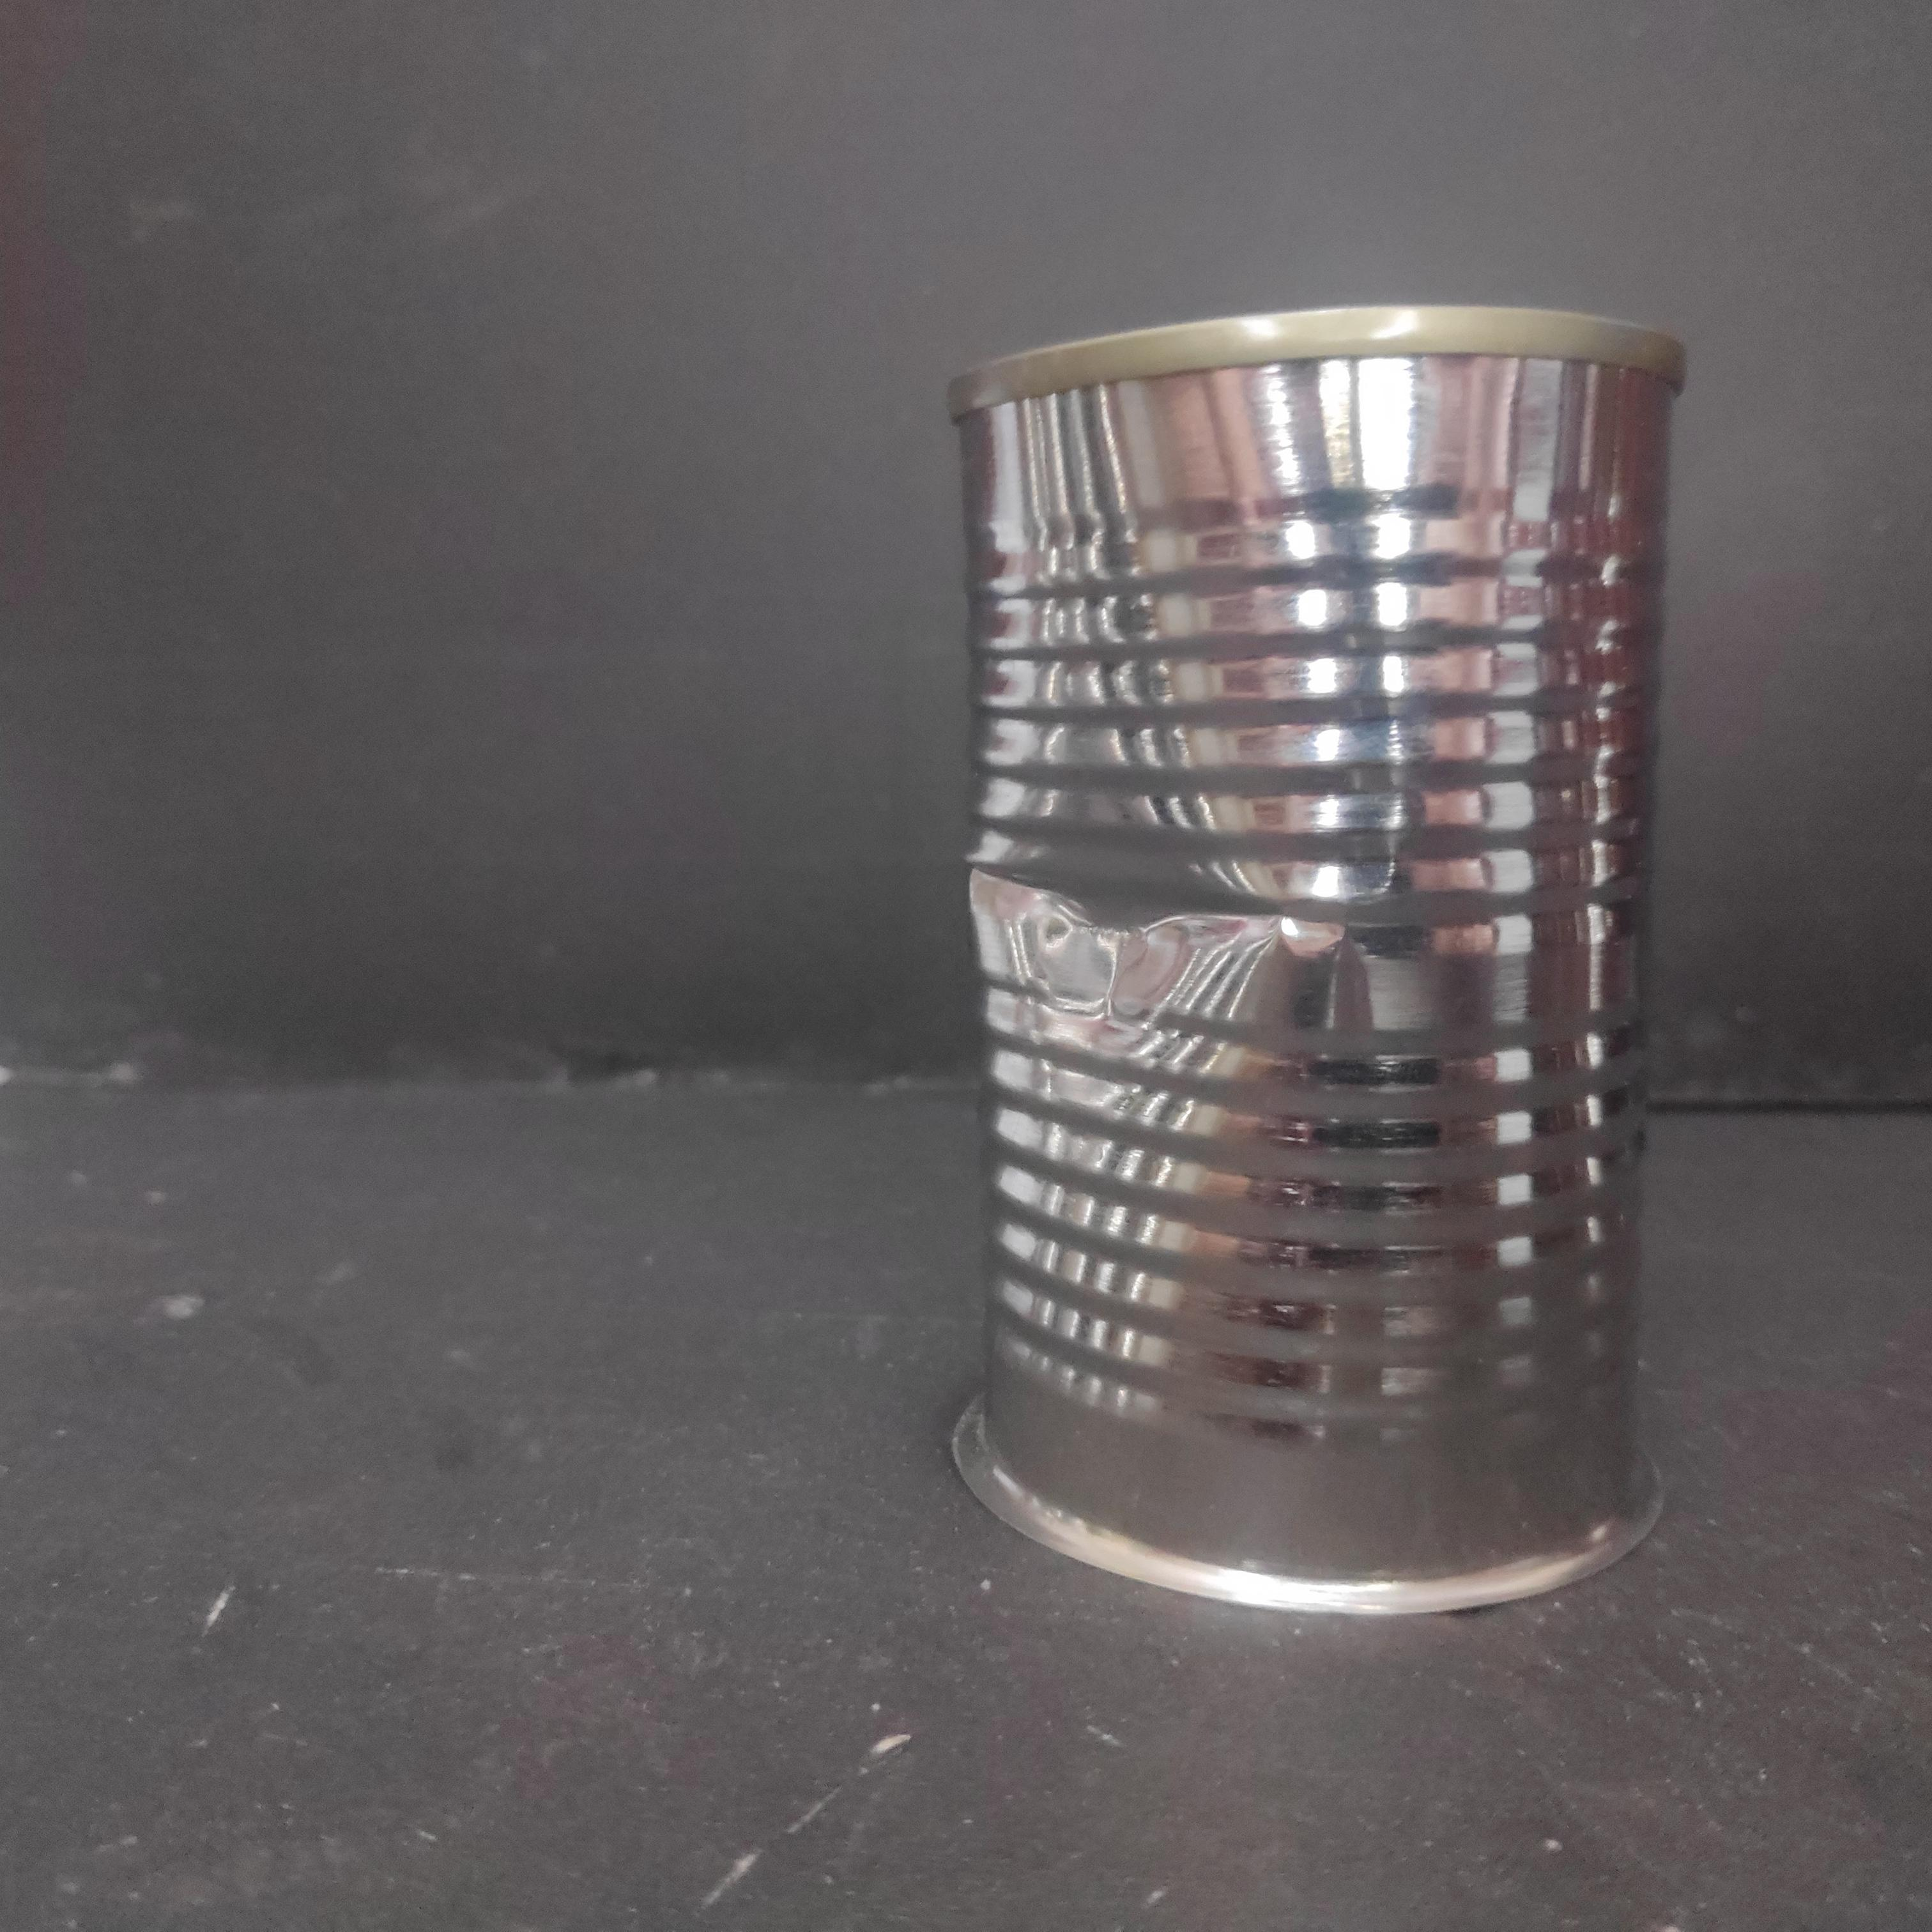Minor Defect: (938, 297, 1698, 1626)
